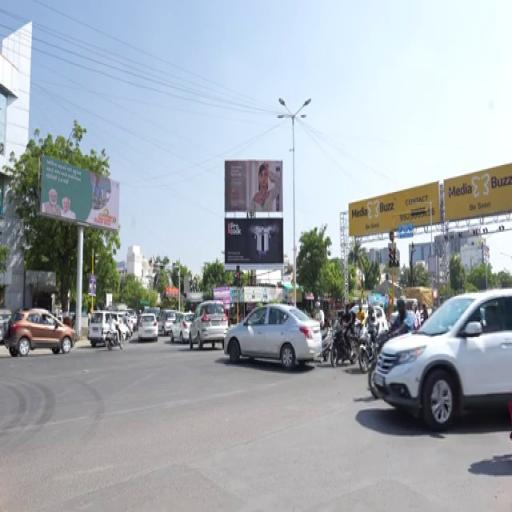Car: (374, 289, 511, 430), (224, 305, 321, 368), (4, 309, 75, 356), (189, 301, 227, 349), (88, 311, 129, 347), (171, 312, 194, 344), (138, 313, 158, 341), (157, 311, 176, 335), (0, 309, 12, 344), (373, 305, 388, 331), (125, 311, 137, 332)
